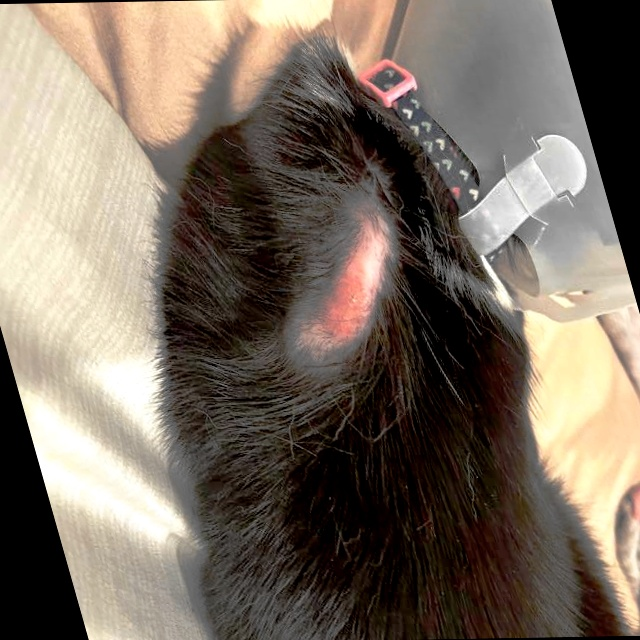hairloss: (254, 194, 435, 354)
